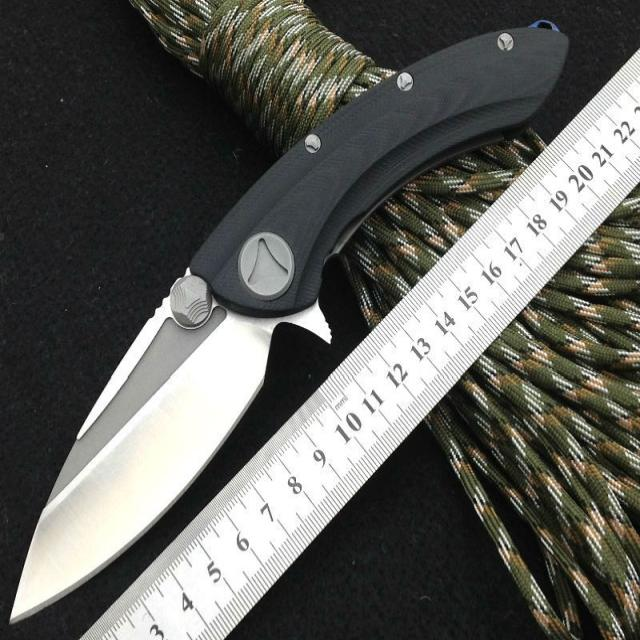knife: (7, 8, 573, 635)
